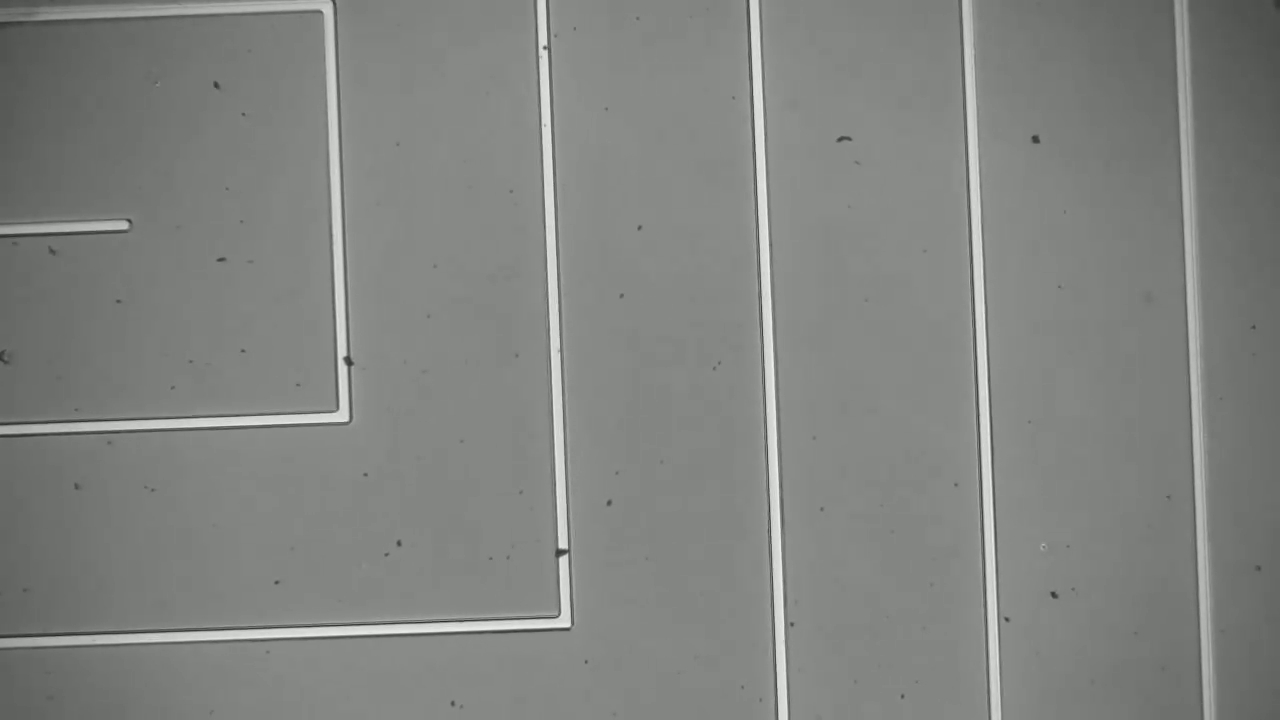stains_enbedded: (545, 538, 580, 565), (335, 348, 364, 374)
